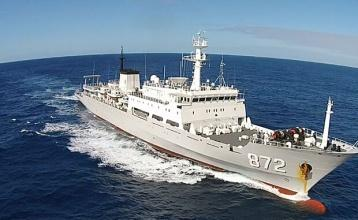warship: (67, 27, 356, 186)
